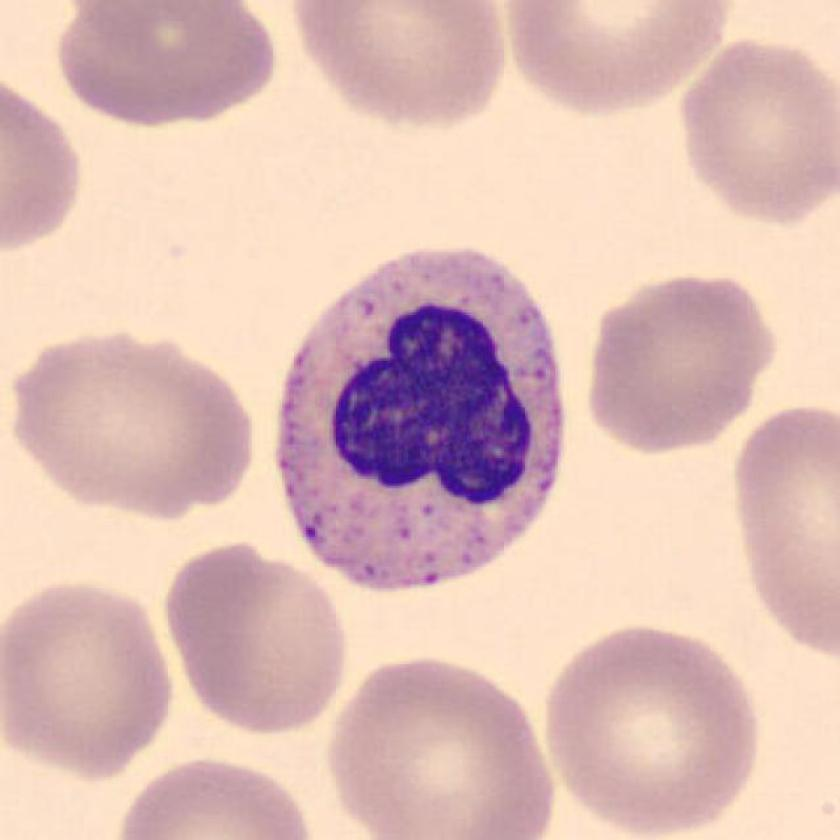neutrophil: (279, 254, 563, 584)
